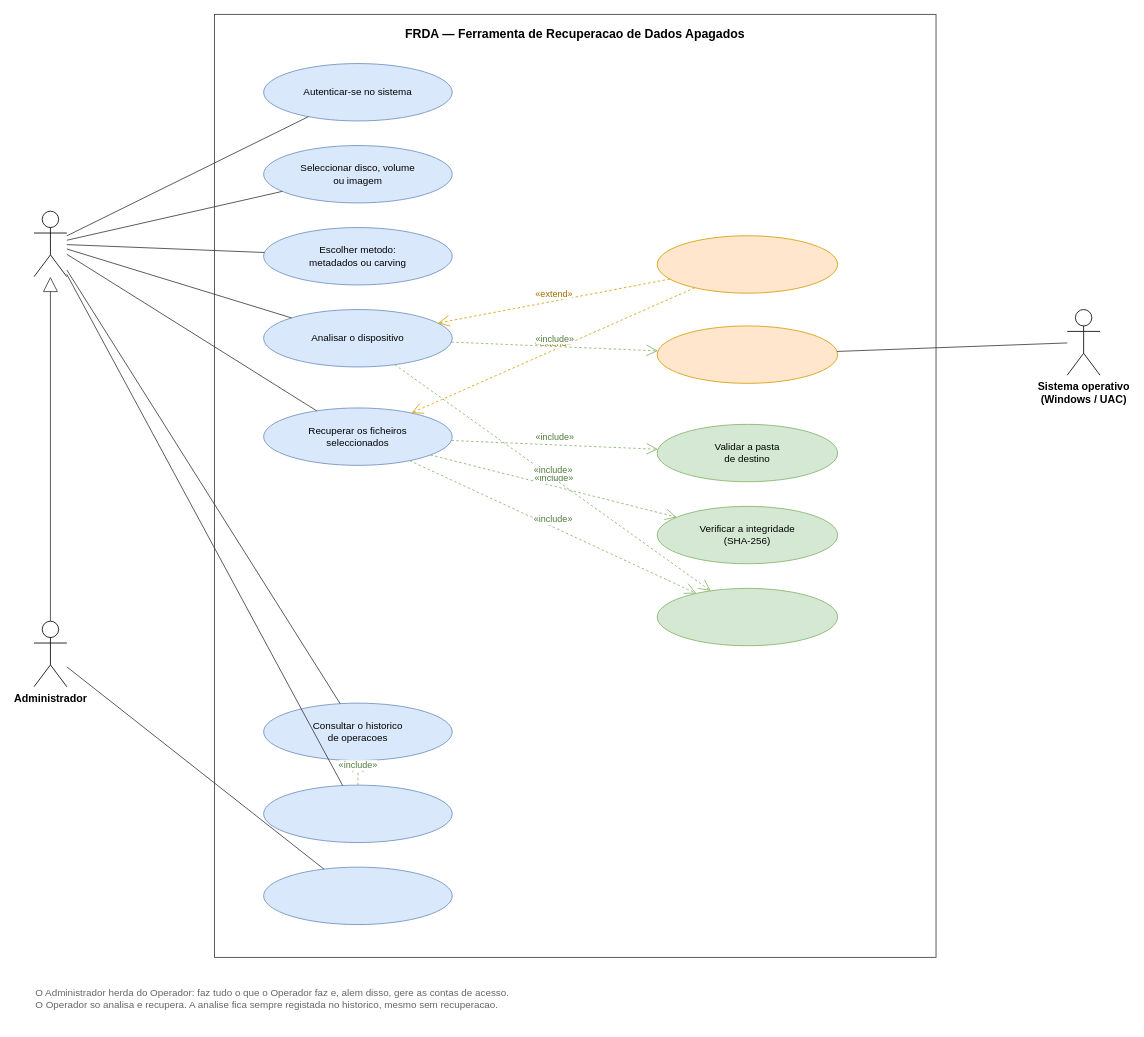
Some shapes in this 1144 by 1037 pixel diagram are drawn without their labels. Here are the shapes that lost their labels. From the top down, the centre of each, then its label:
At (50,243): "Operador".
At (747,264): "Parar a operacao em curso".
At (747,354): "Obter privilegios de administrador (UAC)".
At (747,617): "Registar a operacao no historico (SQLite + JSON)".
At (357,813): "Gerar o relatorio PDF da operacao".
At (357,895): "Gerir contas de acesso".
